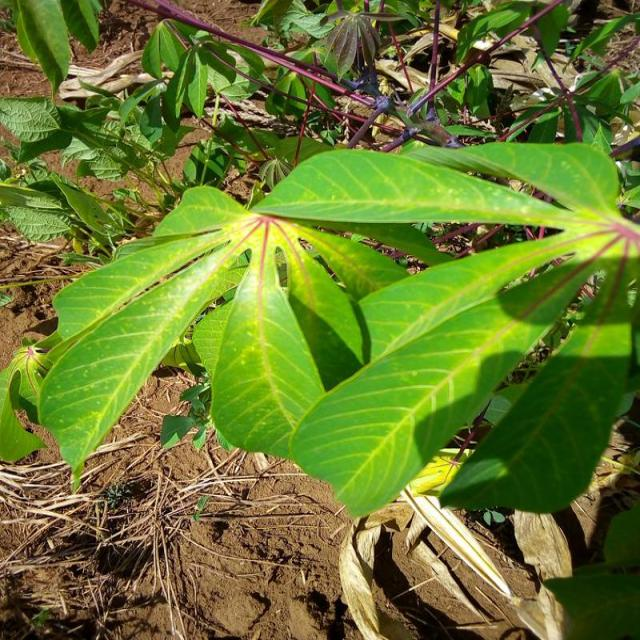cassava leaf: (22, 141, 638, 519)
